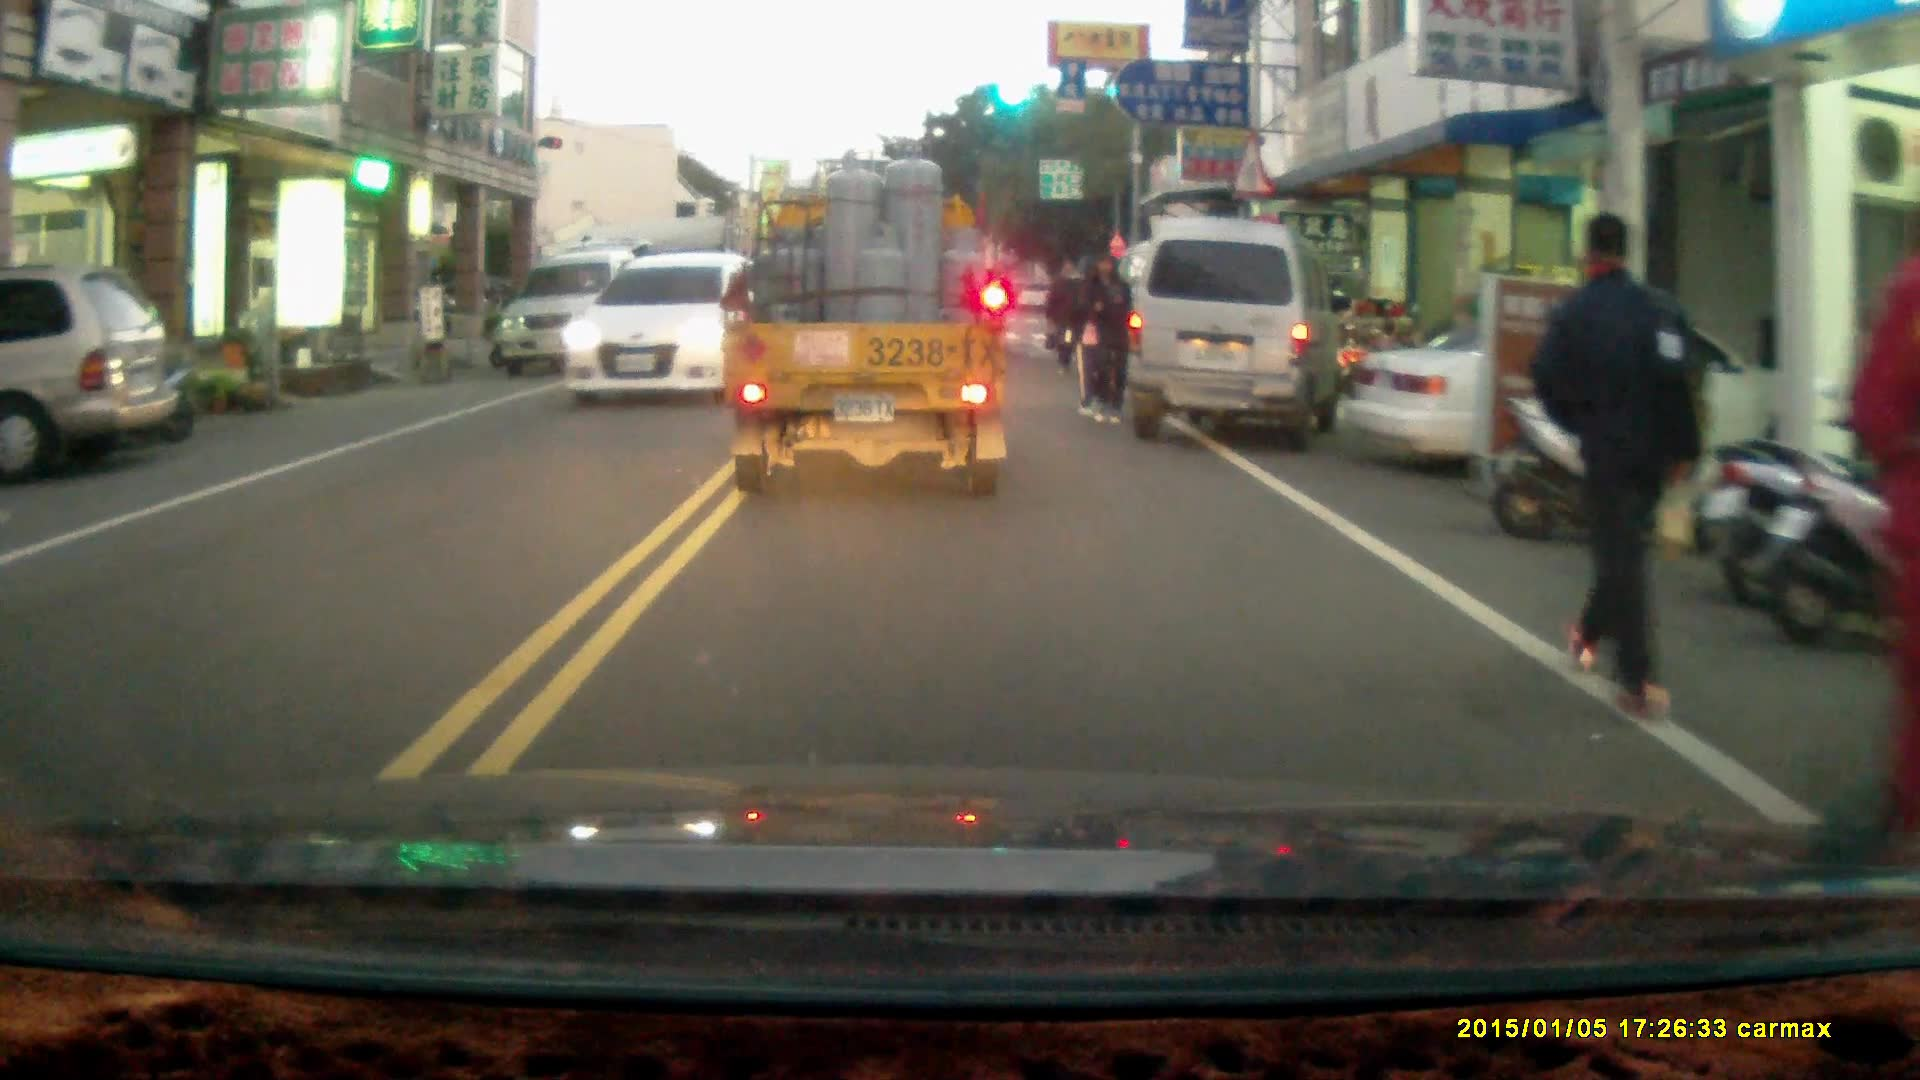pedestrian: (1531, 208, 1709, 726), (1850, 215, 1920, 834), (1081, 251, 1128, 421), (1044, 252, 1091, 370)
vehicle: (722, 175, 1010, 496), (1346, 302, 1819, 484), (1125, 212, 1347, 446), (1, 262, 180, 473), (559, 249, 805, 400), (491, 250, 664, 376)
